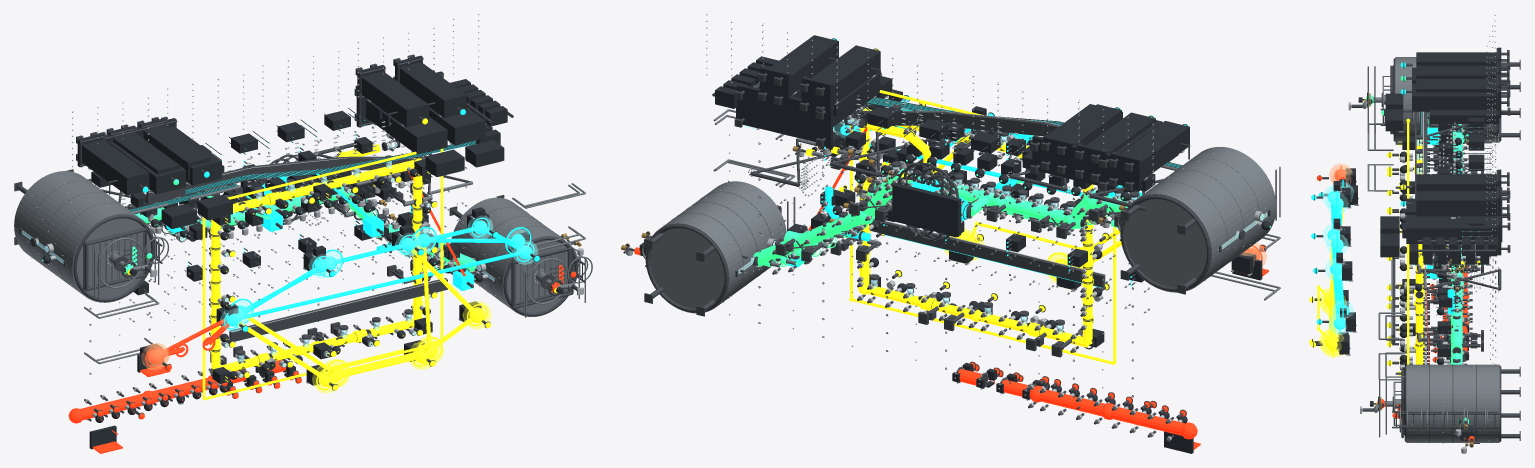
The model's file is safecut_ot_pipeline_graph_v5.glb.
3 renders of one model, left to right at view 1: azimuth 30°, elevation 25°; view 2: azimuth 150°, elevation 25°; view 3: azimuth 270°, elevation 25°, orthographic. The views are drawn at different scales.
Parts seen in each view (by area): view 1: Process_tank_A_body, Process_tank_B_body, Control_cabinet_0_body, Control_cabinet_3_body, Control_cabinet_4_body, Safety_logic_cabinet_body, Control_cabinet_2_body, Safety_cable_tray_detail_tray_1, Safety_cable_tray_detail_tray_0, Control_cabinet_1_body, GraphV3_OT_edge_4, SCADA_cabinet_body (+20 smaller); view 2: Process_tank_A_body, Process_tank_B_body, Safety_skid_base, Main_OT_pump_base, Control_cabinet_0_body, Control_cabinet_3_body, PLC_skid_base, Control_cabinet_4_body, Safety_cable_tray_detail_tray_0, Control_cabinet_2_body, Main_OT_cable_tray_tray_1, Control_cabinet_1_body (+15 smaller); view 3: Process_tank_B_body, Control_cabinet_4_body, SCADA_cabinet_body, PLC_cabinet_right_body, Process_tank_A_body, Control_cabinet_3_body, Control_cabinet_0_body, Control_cabinet_1_body, Control_cabinet_2_body, Safety_loop_02, Protected_OT_pipeline_06, SCADA_server_body (+22 smaller).
Boxes of the visible parts, bbox=[...] form: Process_tank_A_body: bbox=[14, 171, 154, 302]; Process_tank_B_body: bbox=[451, 197, 578, 316]; Control_cabinet_0_body: bbox=[82, 140, 149, 195]; Control_cabinet_3_body: bbox=[361, 71, 428, 127]; Control_cabinet_4_body: bbox=[399, 62, 466, 117]; Safety_logic_cabinet_body: bbox=[366, 100, 447, 154]; Control_cabinet_2_body: bbox=[143, 125, 210, 180]; Safety_cable_tray_detail_tray_1: bbox=[337, 278, 447, 315]; Safety_cable_tray_detail_tray_0: bbox=[229, 304, 339, 341]; Control_cabinet_1_body: bbox=[112, 132, 179, 174]; GraphV3_OT_edge_4: bbox=[240, 251, 520, 319]; SCADA_cabinet_body: bbox=[429, 107, 485, 145]; Process_tank_A_body: bbox=[1120, 146, 1276, 292]; Process_tank_B_body: bbox=[645, 181, 786, 313]; Safety_skid_base: bbox=[737, 84, 832, 145]; Main_OT_pump_base: bbox=[892, 183, 961, 236]; Control_cabinet_0_body: bbox=[1120, 121, 1189, 180]; Control_cabinet_3_body: bbox=[811, 45, 880, 105]; PLC_skid_base: bbox=[1032, 135, 1116, 189]; Control_cabinet_4_body: bbox=[769, 35, 838, 95]; Safety_cable_tray_detail_tray_0: bbox=[983, 245, 1105, 287]; Control_cabinet_2_body: bbox=[1052, 104, 1121, 145]; Main_OT_cable_tray_tray_1: bbox=[938, 111, 1044, 136]; Control_cabinet_1_body: bbox=[1086, 112, 1155, 153]; Process_tank_B_body: bbox=[1406, 364, 1499, 442]; Control_cabinet_4_body: bbox=[1416, 191, 1496, 216]; SCADA_cabinet_body: bbox=[1406, 215, 1496, 243]; PLC_cabinet_right_body: bbox=[1412, 83, 1496, 111]; Process_tank_A_body: bbox=[1395, 57, 1499, 142]; Control_cabinet_3_body: bbox=[1416, 174, 1496, 190]; Control_cabinet_0_body: bbox=[1416, 52, 1496, 65]; Control_cabinet_1_body: bbox=[1416, 65, 1496, 78]; Control_cabinet_2_body: bbox=[1416, 79, 1496, 92]; Safety_loop_02: bbox=[1415, 244, 1423, 364]; Protected_OT_pipeline_06: bbox=[1450, 289, 1462, 364]; SCADA_server_body: bbox=[1380, 233, 1399, 257].
Size of the model in its own units: 15.58 by 8.37 by 5.67.
